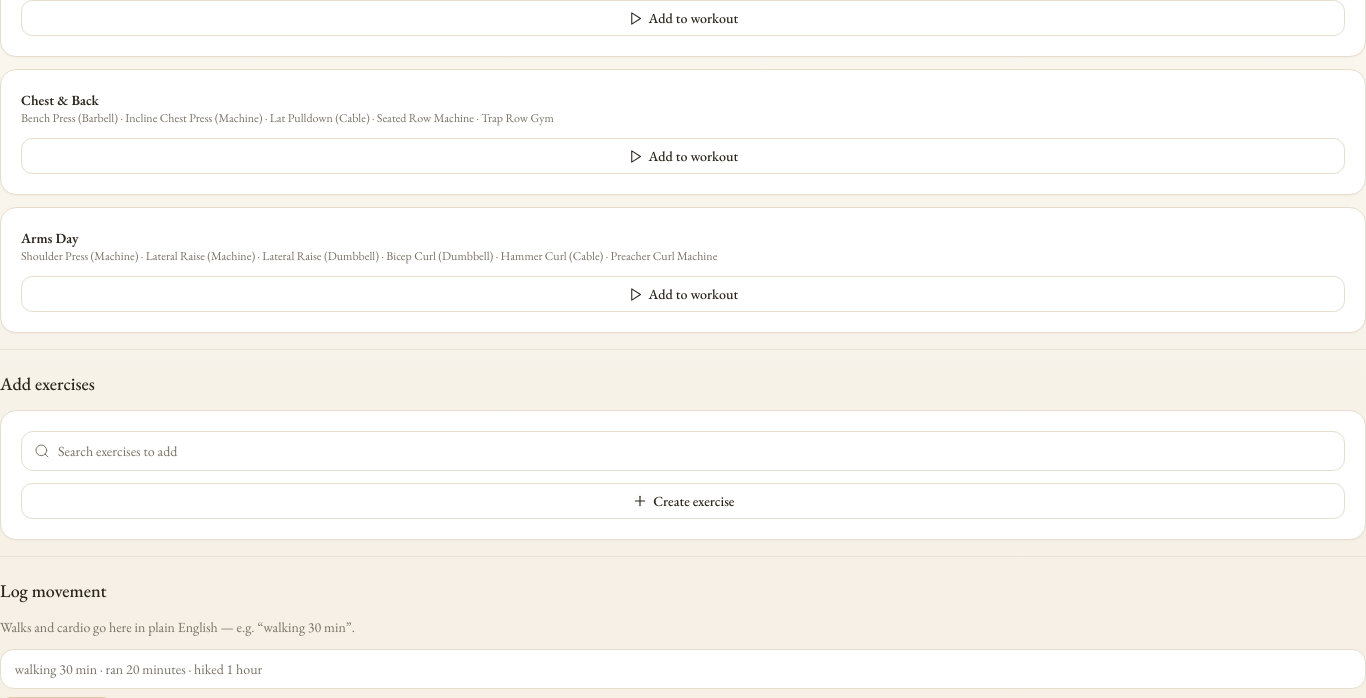
Test: active session flow › adds a picked exercise to the session list
The width and height of the screenshot is (1366, 698).
(page scrolled)
Type "Shoulder Press (Machine)" into the field with placeholder "Search exercises to add". click: (695, 451)
box: x1=58 y1=442 x2=1332 y2=460
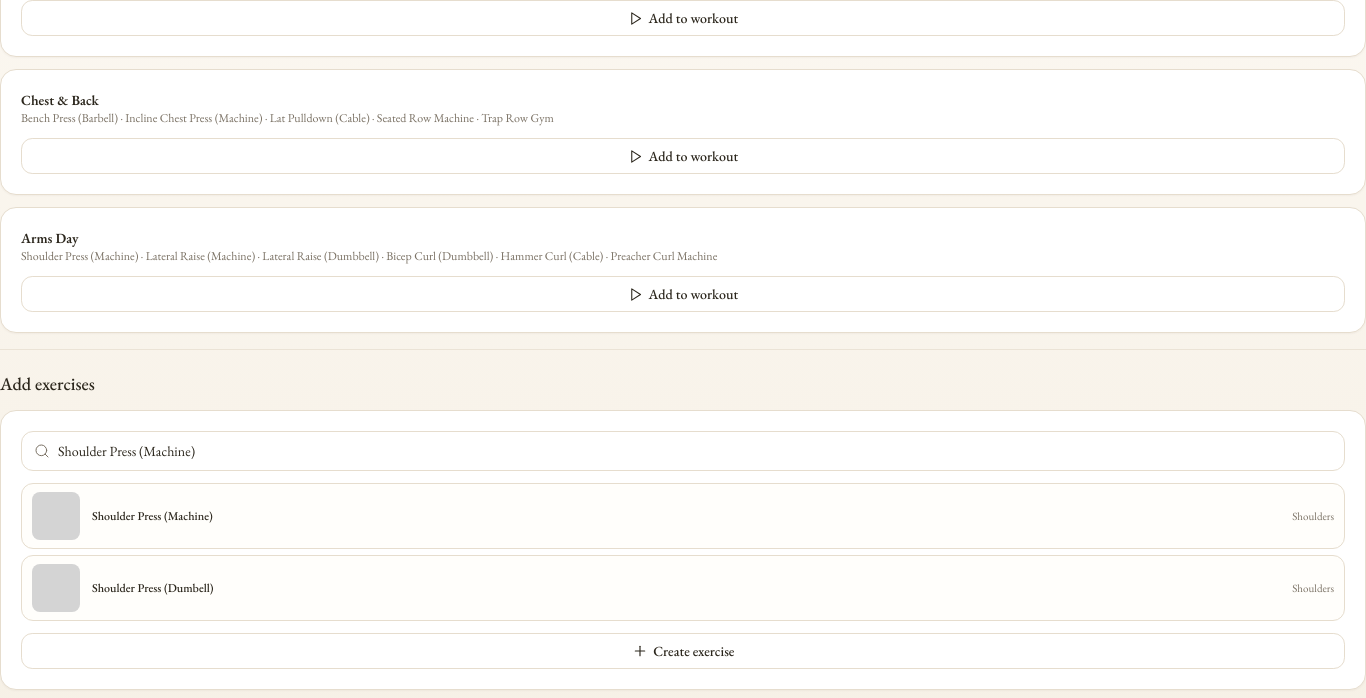
Click the button "Shoulder Press (Machine) shoulders". click: (56, 516)
box: x1=21 y1=483 x2=1345 y2=549
(page scrolled)
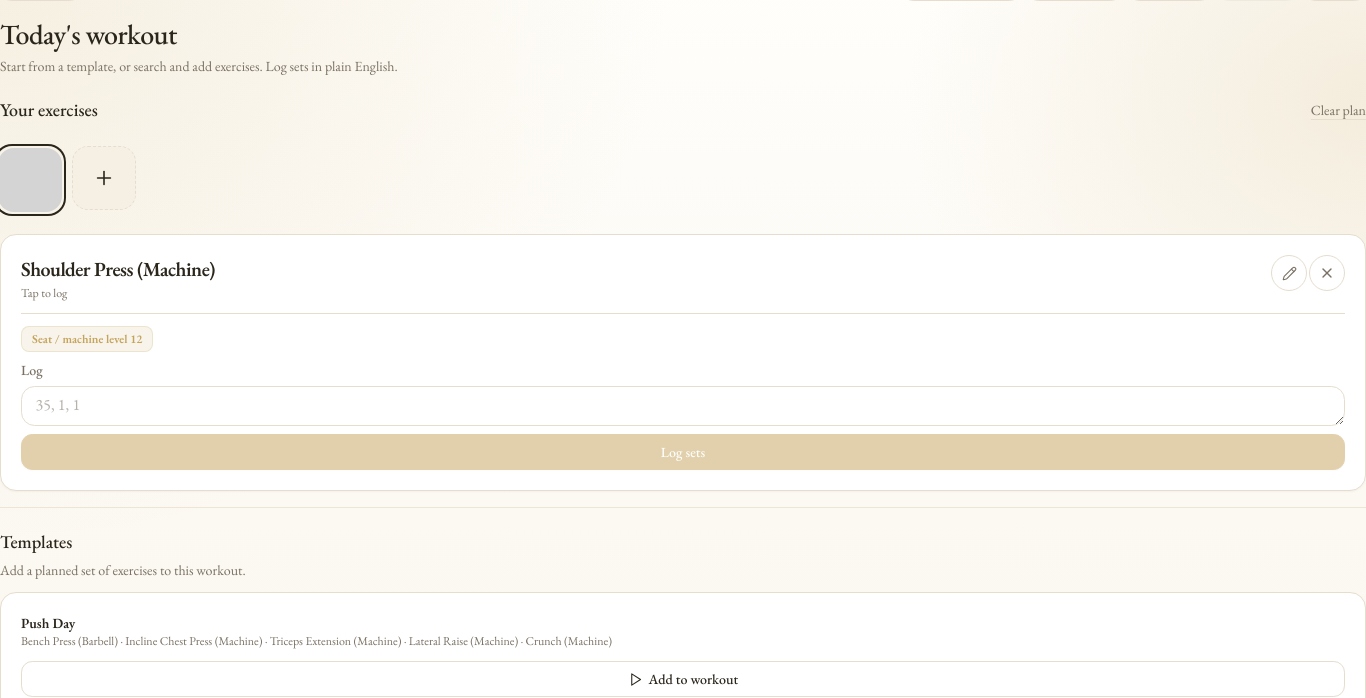
Now the heading "Your exercises" is shown, box x1=0 y1=96 x2=98 y2=124
Now the text "Tap to log" is shown, box x1=21 y1=285 x2=67 y2=301
